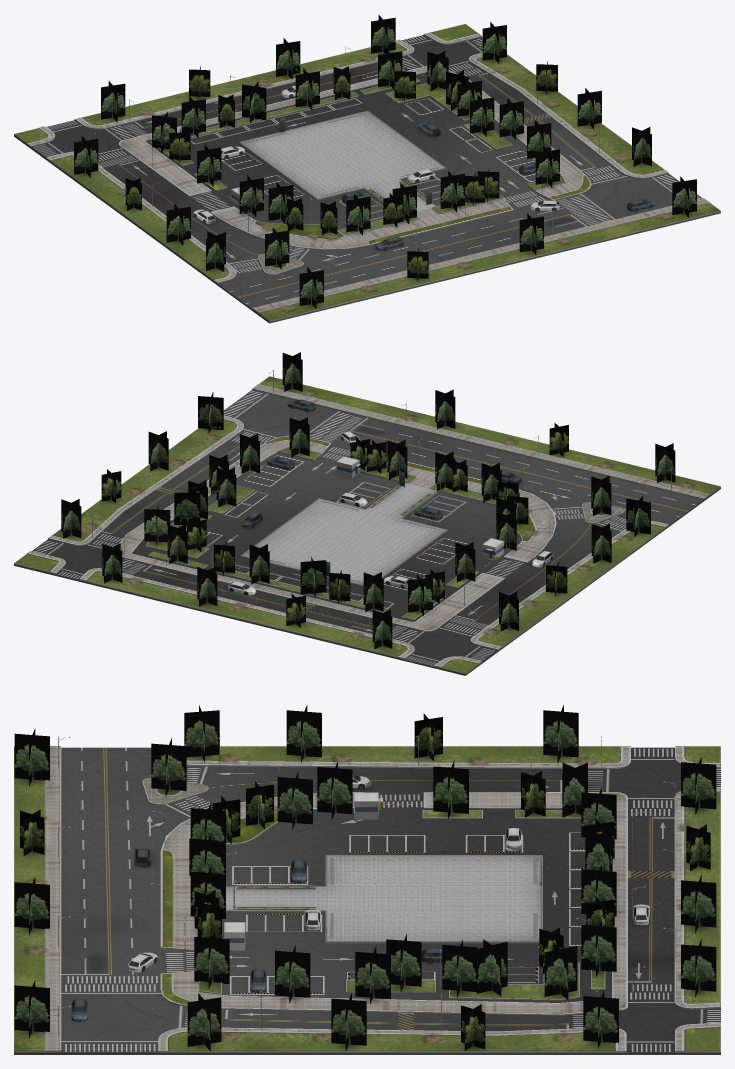
File: StandardSite02.gltf
The picture shows the model from 3 angles, top to bottom: view 1: azimuth 30°, elevation 25°; view 2: azimuth 150°, elevation 25°; view 3: azimuth 270°, elevation 25°; orthographic projection. The views are drawn at different scales.
Parts seen in each view (by area): view 1: road, grass, tree01_A, tree02_A, commonCarWhite, commonCarBlue, commonGaro; view 2: road, grass, tree01_A, tree02_A, commonCarBlue, commonCarWhite, commonGaro; view 3: road, grass, tree01_A, tree02_A, commonCarBlue, commonCarWhite, commonGaro.
Part boxes in pixels (bbox=[...]): road: bbox=[14, 35, 720, 323]; grass: bbox=[14, 24, 720, 321]; tree01_A: bbox=[74, 14, 696, 308]; tree02_A: bbox=[125, 61, 557, 281]; commonCarWhite: bbox=[193, 85, 559, 223]; commonCarBlue: bbox=[342, 122, 655, 250]; commonGaro: bbox=[88, 40, 599, 300]; road: bbox=[14, 389, 720, 675]; grass: bbox=[14, 376, 720, 674]; tree01_A: bbox=[61, 352, 675, 649]; tree02_A: bbox=[101, 423, 568, 627]; commonCarBlue: bbox=[241, 399, 521, 528]; commonCarWhite: bbox=[228, 431, 553, 595]; commonGaro: bbox=[92, 370, 671, 633]; road: bbox=[14, 747, 720, 1054]; grass: bbox=[14, 746, 720, 1052]; tree01_A: bbox=[14, 705, 716, 1051]; tree02_A: bbox=[20, 713, 710, 1050]; commonCarBlue: bbox=[71, 847, 442, 1022]; commonCarWhite: bbox=[128, 774, 649, 972]; commonGaro: bbox=[58, 733, 675, 1037].
Bounding box in the file's own units: 1094 × 80.24 × 1070.
8 materials, 8 textured.
